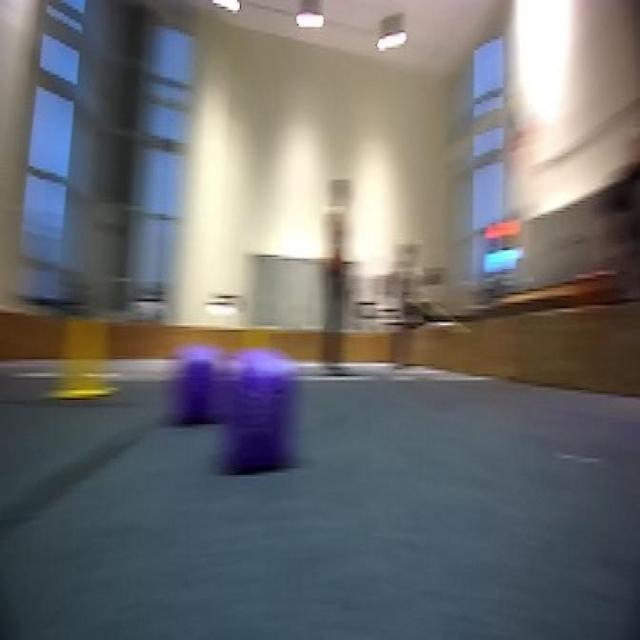frc_cone: (64, 310, 116, 407)
frc_cube: (231, 372, 297, 482), (179, 354, 227, 422)
